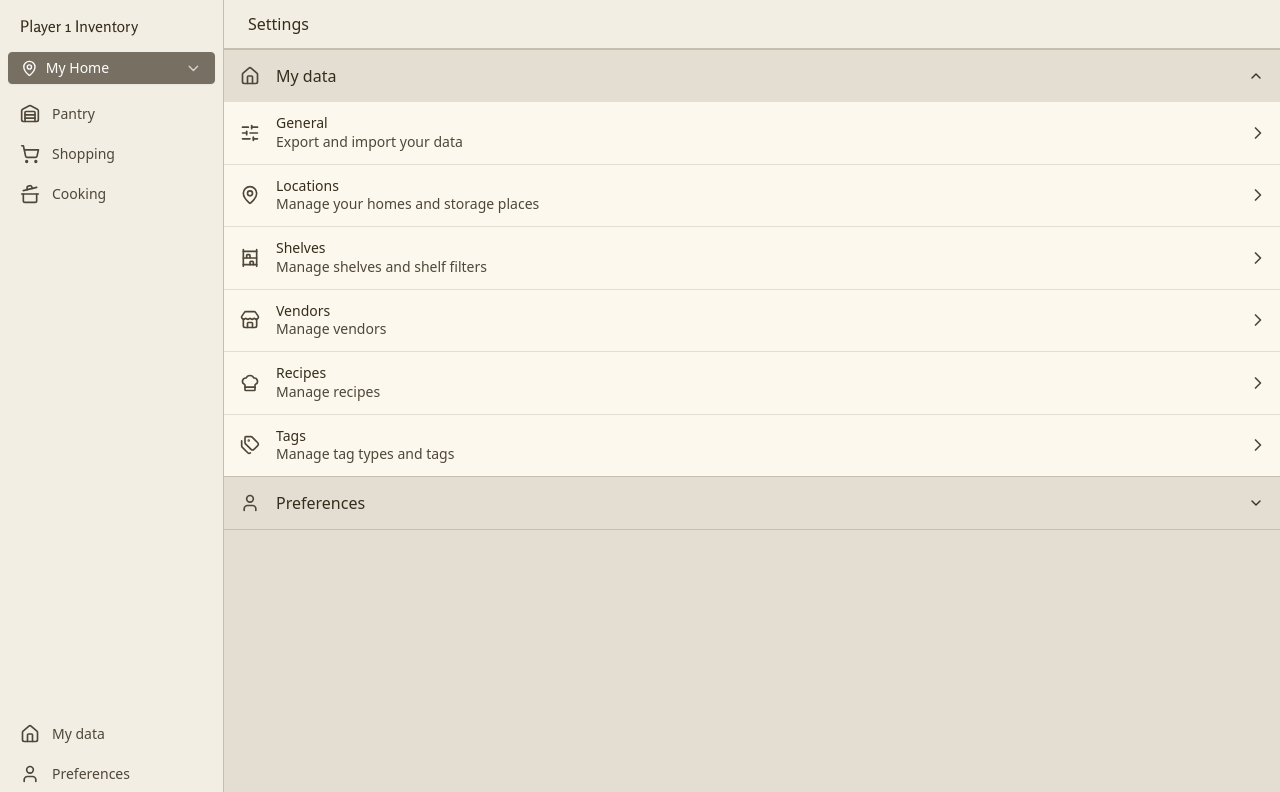
Test: Settings page (/settings) › on mobile › user can open the preferences item to see theme, language and data mode
Expected: the text "Locations" is shown, [276,176,339,194]
Expected: the text "Theme" is not shown
# When the user opens the item
What coordinates should you click on to do the following:
click the button "Preferences" below "Manage tag types and tags"
I would click on:
 (321, 503)
Its box is [224,477,1279,529].
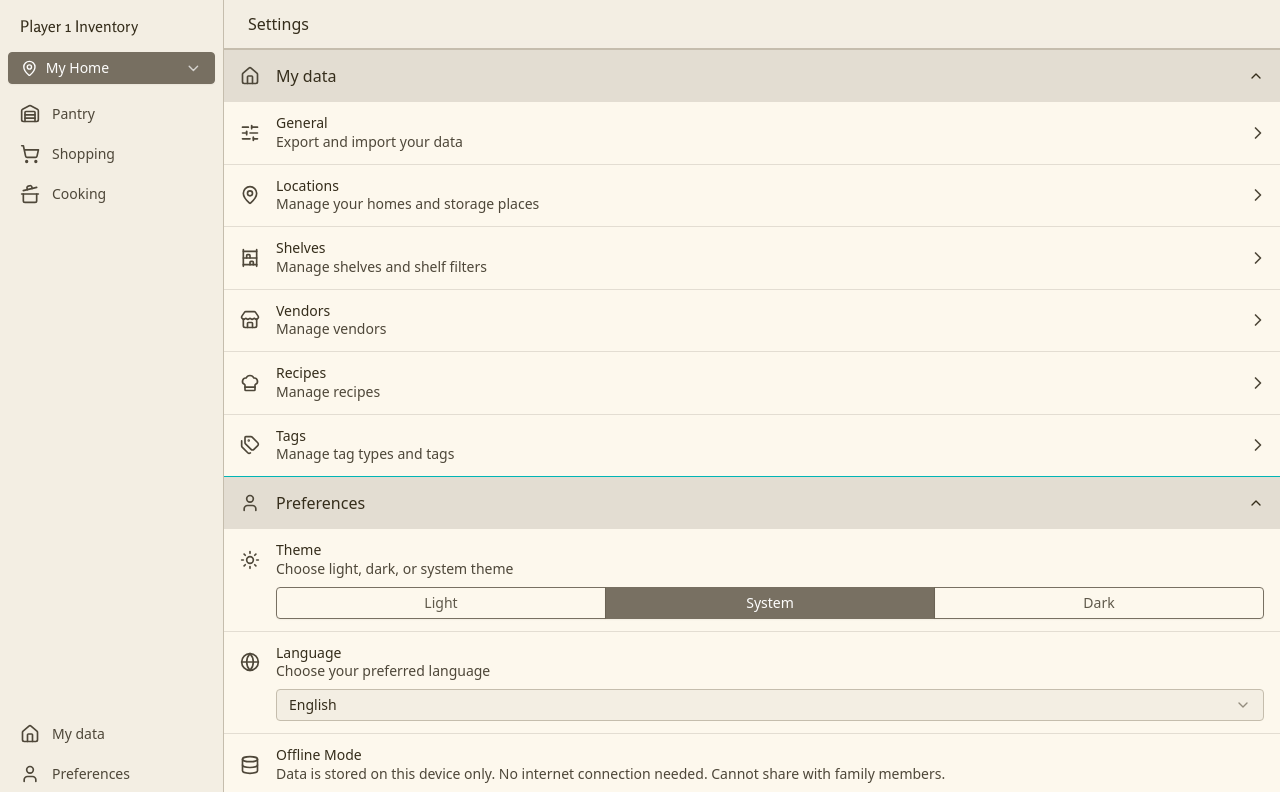
Now the button "Preferences" below "Manage tag types and tags" is expanded, box [224,477,1279,529]
Now the text "Theme" is shown, box [276,540,321,559]
Now the text "Language" is shown, box [276,642,342,662]
